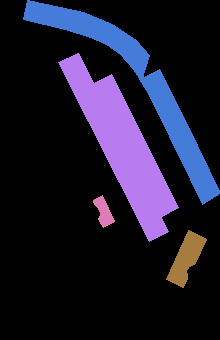parkingspot: (58, 53, 168, 241), (92, 74, 178, 217), (139, 69, 220, 204), (23, 0, 149, 81), (166, 230, 206, 287), (93, 195, 114, 227)
